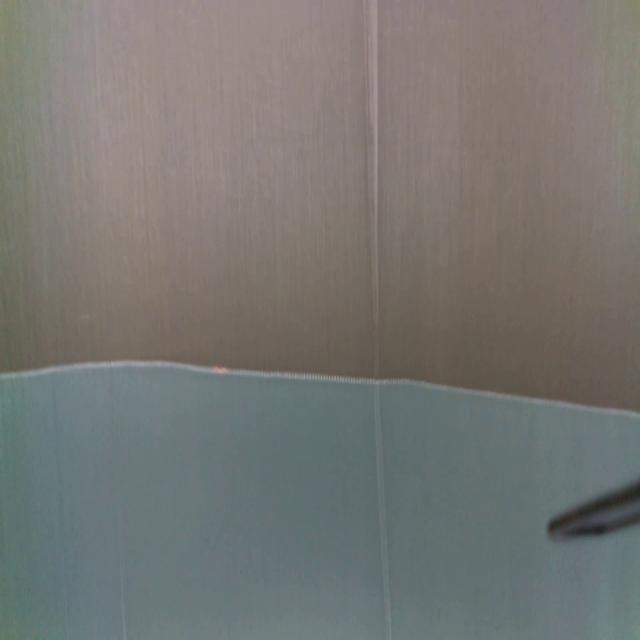crease: (364, 0, 394, 640)
